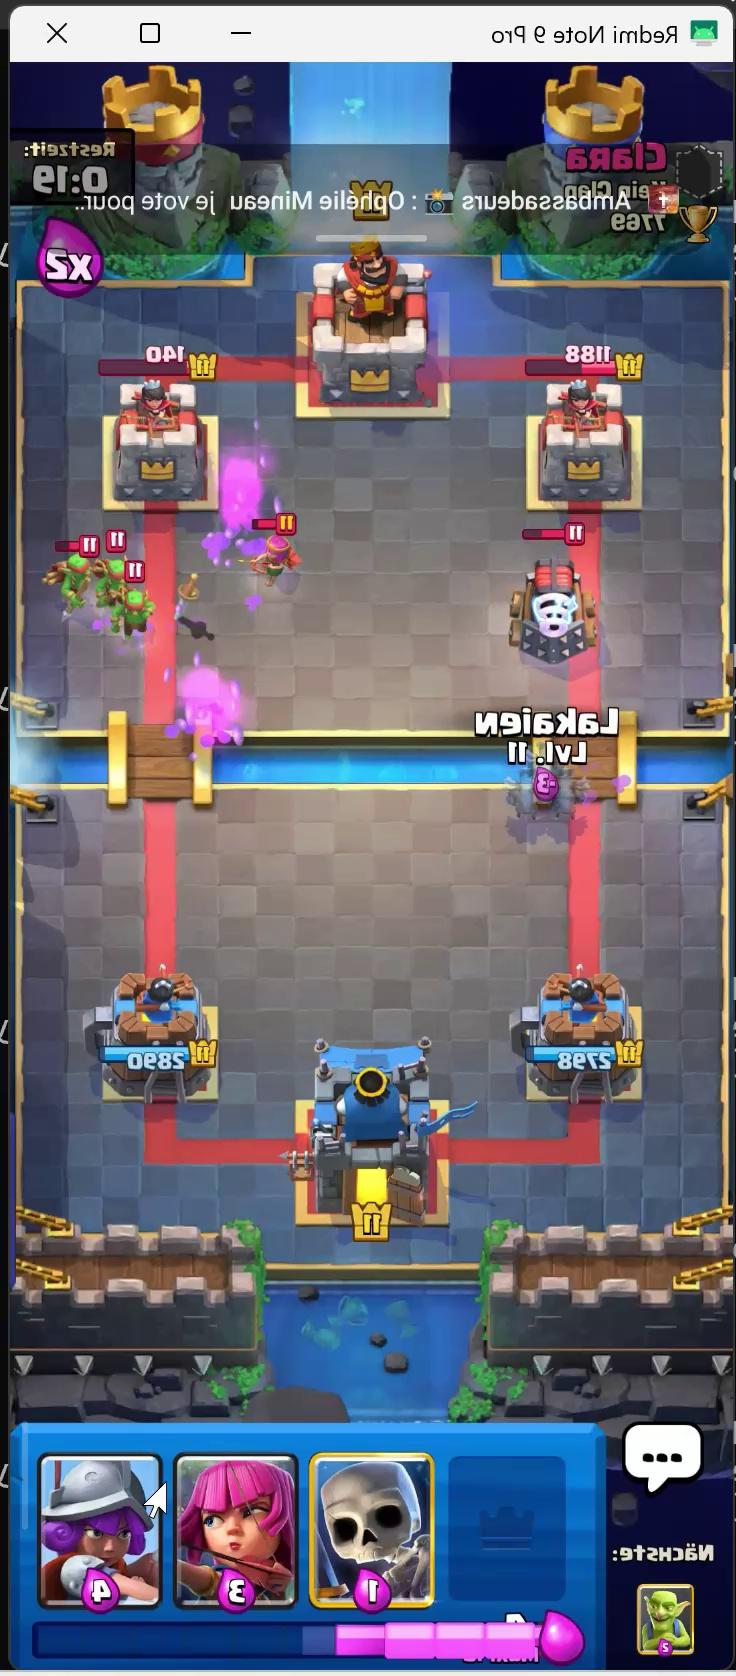archere: (254, 532, 299, 580)
gobelin_lances: (53, 540, 95, 611), (95, 548, 135, 602), (115, 589, 152, 641)
zappy: (519, 546, 591, 661)
